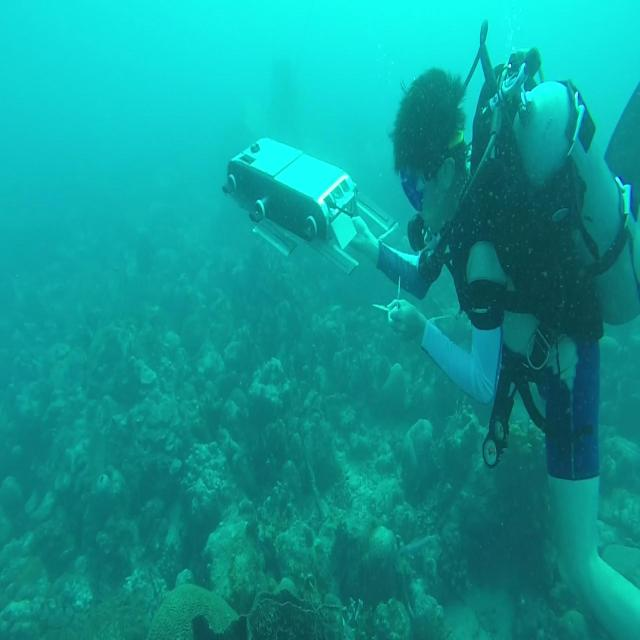human: (347, 26, 639, 636)
